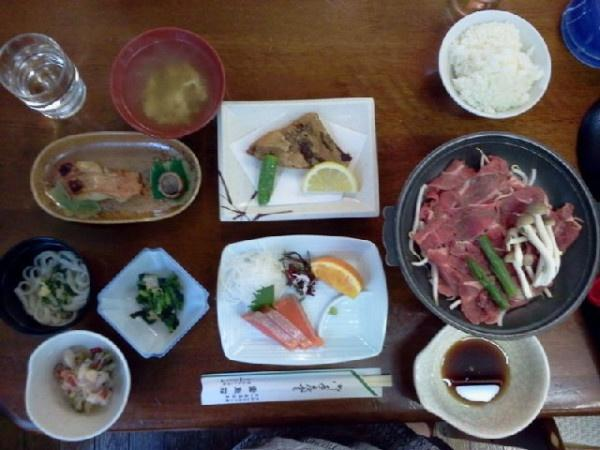rice: (450, 22, 543, 112)
